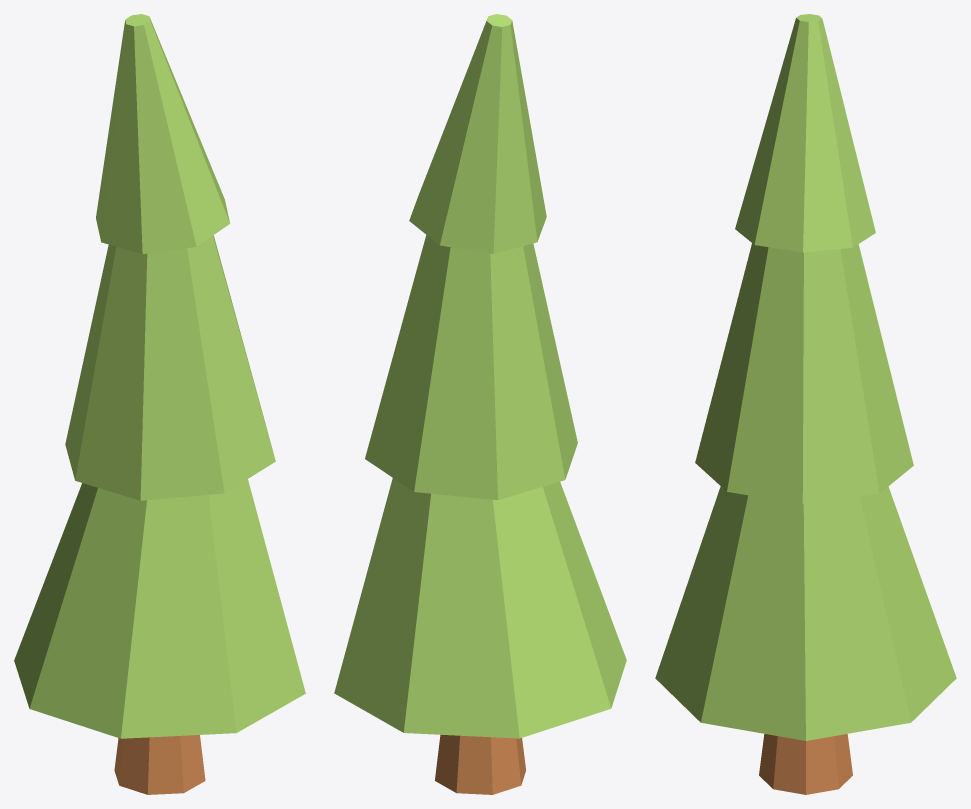
Rendered from tree.gltf.
3 renders of one model, left to right at view 1: azimuth 30°, elevation 25°; view 2: azimuth 150°, elevation 25°; view 3: azimuth 270°, elevation 25°, orthographic.
Parts seen in each view (by area): view 1: Plane; view 2: Plane; view 3: Plane.
Part boxes in pixels (<box>): Plane: <box>14,14,305,794</box>; Plane: <box>334,14,626,794</box>; Plane: <box>655,14,956,794</box>.
Bounding box in the file's own units: 1.64 × 4.56 × 1.66.
